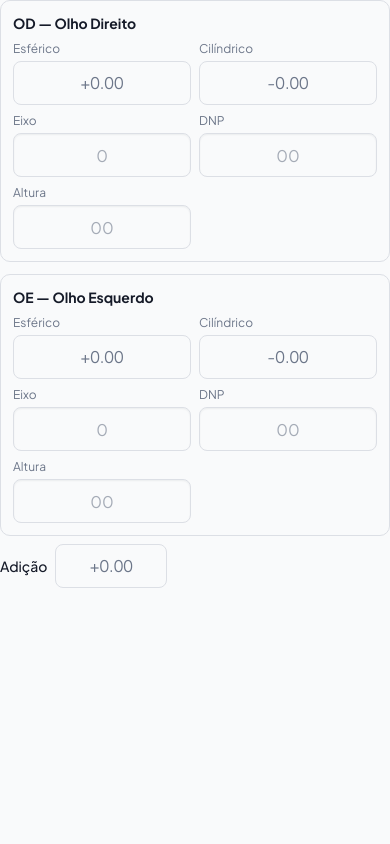
Test: PrescriptionGradeForm — toque (pointer: coarse) › no toque, tocar no visor do esférico OD abre o keypad
Click the button with test id "grade-od-esf" at (102, 83), box x1=13 y1=61 x2=191 y2=105
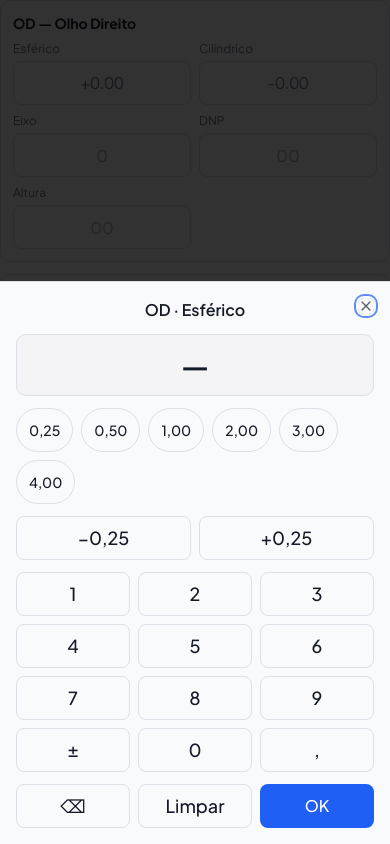
Result: the text "—" is shown at x1=16 y1=334 x2=374 y2=396
